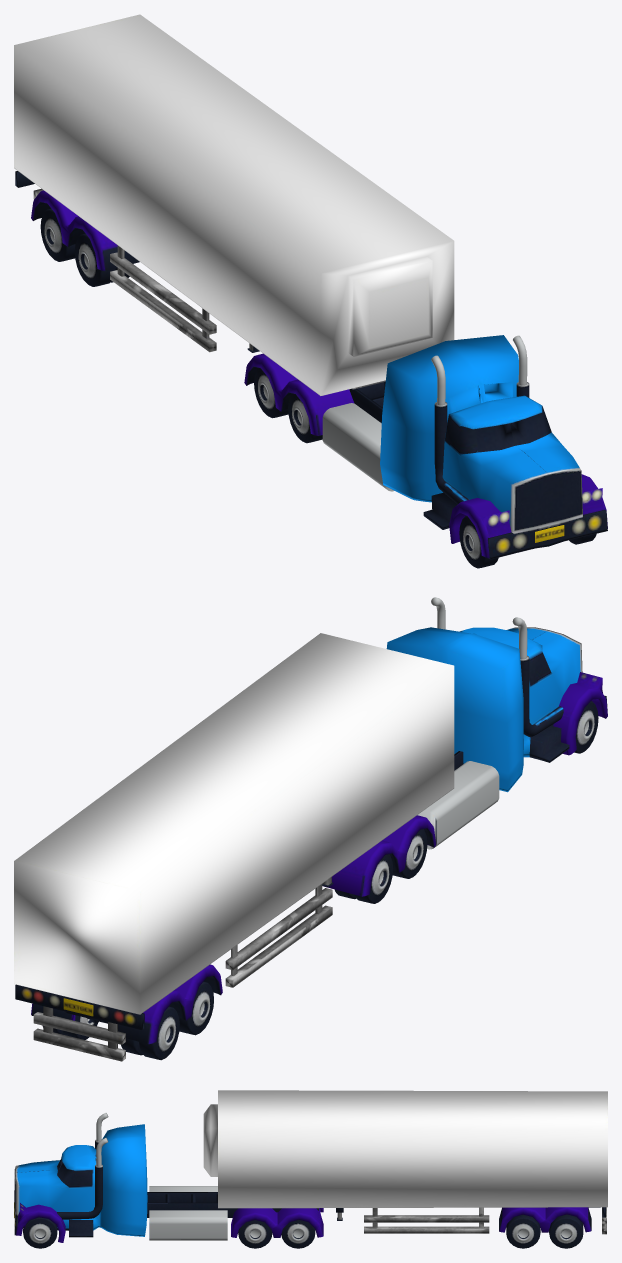
File: lorry.glb
The picture shows the model from 3 angles, top to bottom: view 1: azimuth 30°, elevation 25°; view 2: azimuth 150°, elevation 25°; view 3: azimuth 270°, elevation 25°; orthographic projection. The views are drawn at different scales.
Parts seen in each view (by area): view 1: hero_mk6_low1:pCube46; view 2: hero_mk6_low1:pCube46; view 3: hero_mk6_low1:pCube46.
Boxes of the visible parts, box(x1,y1,x2,y2) form: hero_mk6_low1:pCube46: box(14, 14, 607, 568); hero_mk6_low1:pCube46: box(14, 597, 607, 1061); hero_mk6_low1:pCube46: box(14, 1090, 607, 1248).
Bounding box in the file's own units: 0.3261 × 0.4497 × 2.
1 material, 1 textured.
